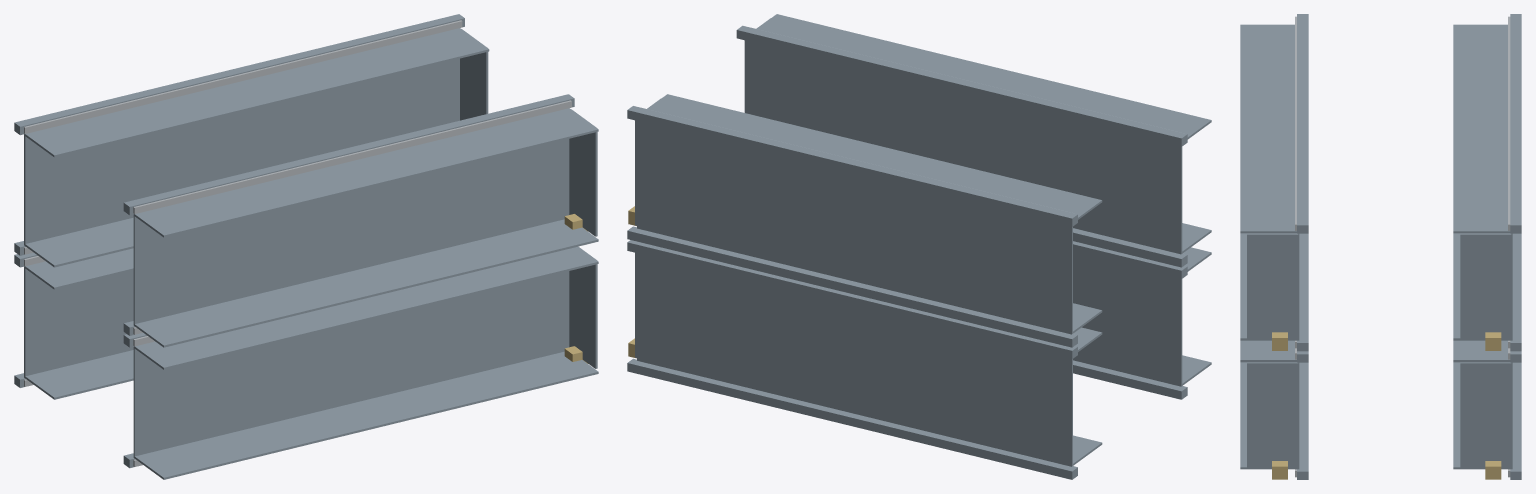
The model's file is A08_QUATRE_TIROIRS.glb.
3 renders of one model, left to right at view 1: azimuth 30°, elevation 25°; view 2: azimuth 150°, elevation 25°; view 3: azimuth 270°, elevation 25°, orthographic. The views are drawn at different scales.
Parts seen in each view (by area): view 1: T01_27, T01_9, T01_18, T02_20, T02_29, T02_28, T02_10, T02_11, T01_0, T05_25, T05_34, T04_32 (+7 smaller); view 2: T01_0, T01_18, T01_27, T01_9, T02_29, T02_20, T04_32, T04_23, T04_22, T04_4, T04_5, T04_13 (+2 smaller); view 3: T02_20, T02_29, T03_21, T03_30, T03_3, T03_12, T04_23, T04_32, T04_31, T04_22, T04_13, T04_4 (+10 smaller).
Boxes of the visible parts, x1=… form: T01_27: x1=133, y1=139, x2=569, y2=326; T01_9: x1=133, y1=271, x2=569, y2=458; T01_18: x1=24, y1=58, x2=459, y2=246; T02_20: x1=25, y1=28, x2=489, y2=157; T02_29: x1=134, y1=108, x2=598, y2=237; T02_28: x1=134, y1=219, x2=598, y2=347; T02_10: x1=134, y1=351, x2=598, y2=479; T02_11: x1=134, y1=246, x2=598, y2=369; T01_0: x1=24, y1=266, x2=133, y2=378; T05_25: x1=24, y1=20, x2=462, y2=133; T05_34: x1=133, y1=100, x2=571, y2=214; T04_32: x1=123, y1=94, x2=574, y2=215; T01_0: x1=637, y1=253, x2=1072, y2=466; T01_18: x1=637, y1=121, x2=1072, y2=334; T01_27: x1=746, y1=41, x2=1182, y2=254; T01_9: x1=1073, y1=253, x2=1182, y2=386; T02_29: x1=757, y1=14, x2=1211, y2=139; T02_20: x1=647, y1=94, x2=1102, y2=219; T04_32: x1=736, y1=25, x2=1187, y2=146; T04_23: x1=627, y1=106, x2=1077, y2=226; T04_22: x1=627, y1=226, x2=1077, y2=347; T04_4: x1=627, y1=358, x2=1077, y2=479; T04_5: x1=627, y1=240, x2=1077, y2=359; T04_13: x1=1073, y1=360, x2=1187, y2=399; T02_20: x1=1453, y1=24, x2=1510, y2=233; T02_29: x1=1240, y1=24, x2=1296, y2=233; T03_21: x1=1460, y1=233, x2=1511, y2=339; T03_30: x1=1247, y1=233, x2=1298, y2=339; T03_3: x1=1460, y1=362, x2=1511, y2=468; T03_12: x1=1247, y1=362, x2=1298, y2=468; T04_23: x1=1510, y1=14, x2=1521, y2=233; T04_32: x1=1297, y1=14, x2=1308, y2=233; T04_31: x1=1297, y1=233, x2=1308, y2=351; T04_22: x1=1510, y1=233, x2=1521, y2=351; T04_13: x1=1297, y1=362, x2=1308, y2=479; T04_4: x1=1510, y1=362, x2=1521, y2=479.
Size of the model in its own units: 899 by 494 by 495.
